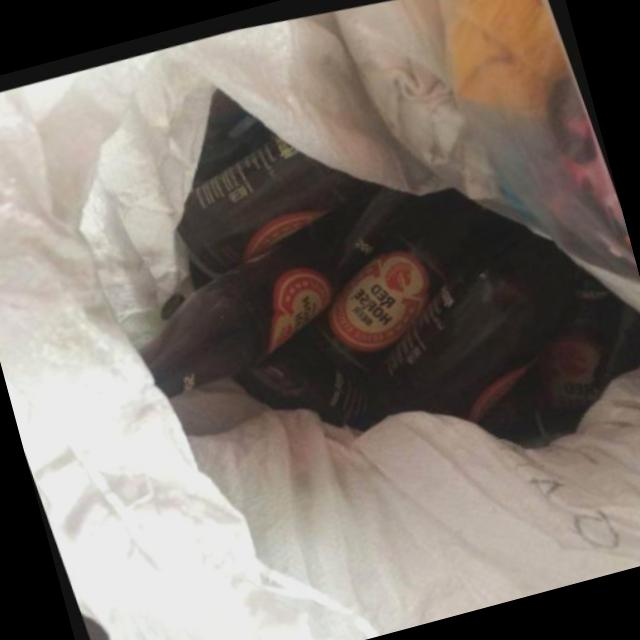chai_thuy_tinh: (376, 233, 559, 410), (139, 233, 331, 395), (308, 195, 481, 367), (175, 133, 361, 271), (230, 338, 367, 423), (156, 289, 186, 317)
